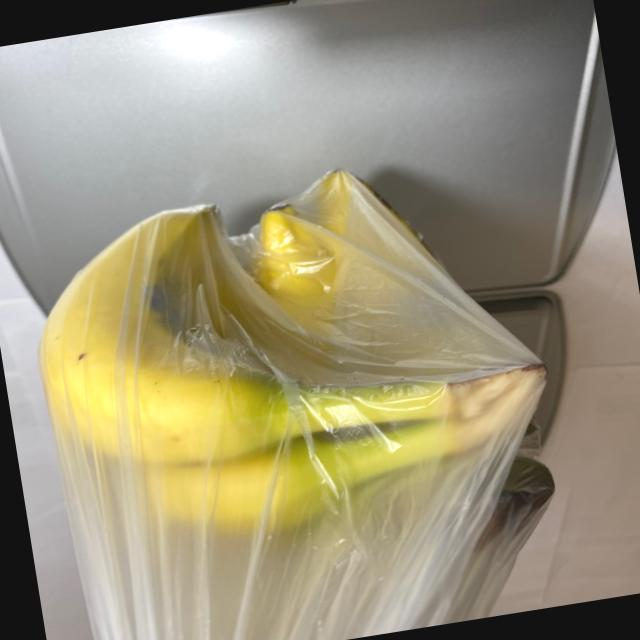banana: (14, 135, 577, 609)
